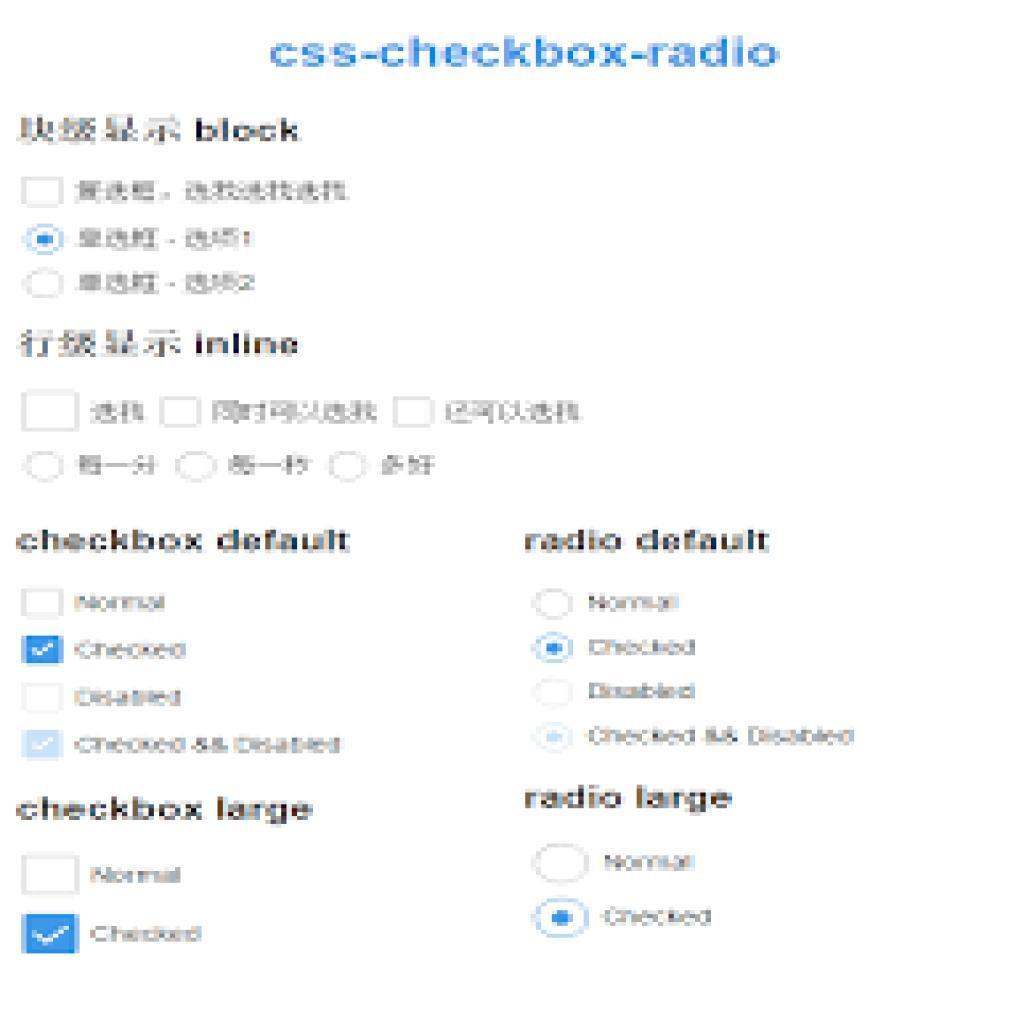checkbox: (23, 394, 80, 433), (24, 856, 80, 894), (25, 916, 79, 953), (393, 398, 435, 429), (160, 399, 204, 427), (24, 180, 64, 210), (23, 588, 65, 616), (24, 730, 62, 759), (25, 684, 61, 714), (25, 637, 62, 665)
label: (14, 109, 305, 154), (10, 528, 357, 561), (17, 328, 305, 364), (12, 798, 315, 829), (585, 721, 861, 754), (520, 782, 740, 823), (75, 175, 354, 207), (70, 731, 348, 761), (522, 529, 776, 560), (80, 268, 272, 301), (74, 224, 259, 254), (444, 397, 591, 430), (214, 399, 381, 427), (597, 902, 723, 935), (582, 632, 704, 666), (73, 634, 194, 667), (71, 682, 187, 713), (90, 920, 209, 950), (583, 678, 701, 708), (601, 849, 702, 880), (584, 589, 688, 618), (231, 450, 317, 484), (88, 863, 190, 891), (73, 590, 170, 617), (79, 454, 160, 481), (380, 451, 442, 483), (90, 400, 151, 428)
radio: (530, 898, 591, 942), (529, 844, 591, 886), (533, 630, 576, 665), (533, 679, 576, 714), (329, 451, 372, 486), (24, 224, 66, 259), (177, 451, 219, 486), (531, 588, 575, 621), (25, 450, 65, 486), (22, 271, 68, 300), (535, 725, 576, 757)
